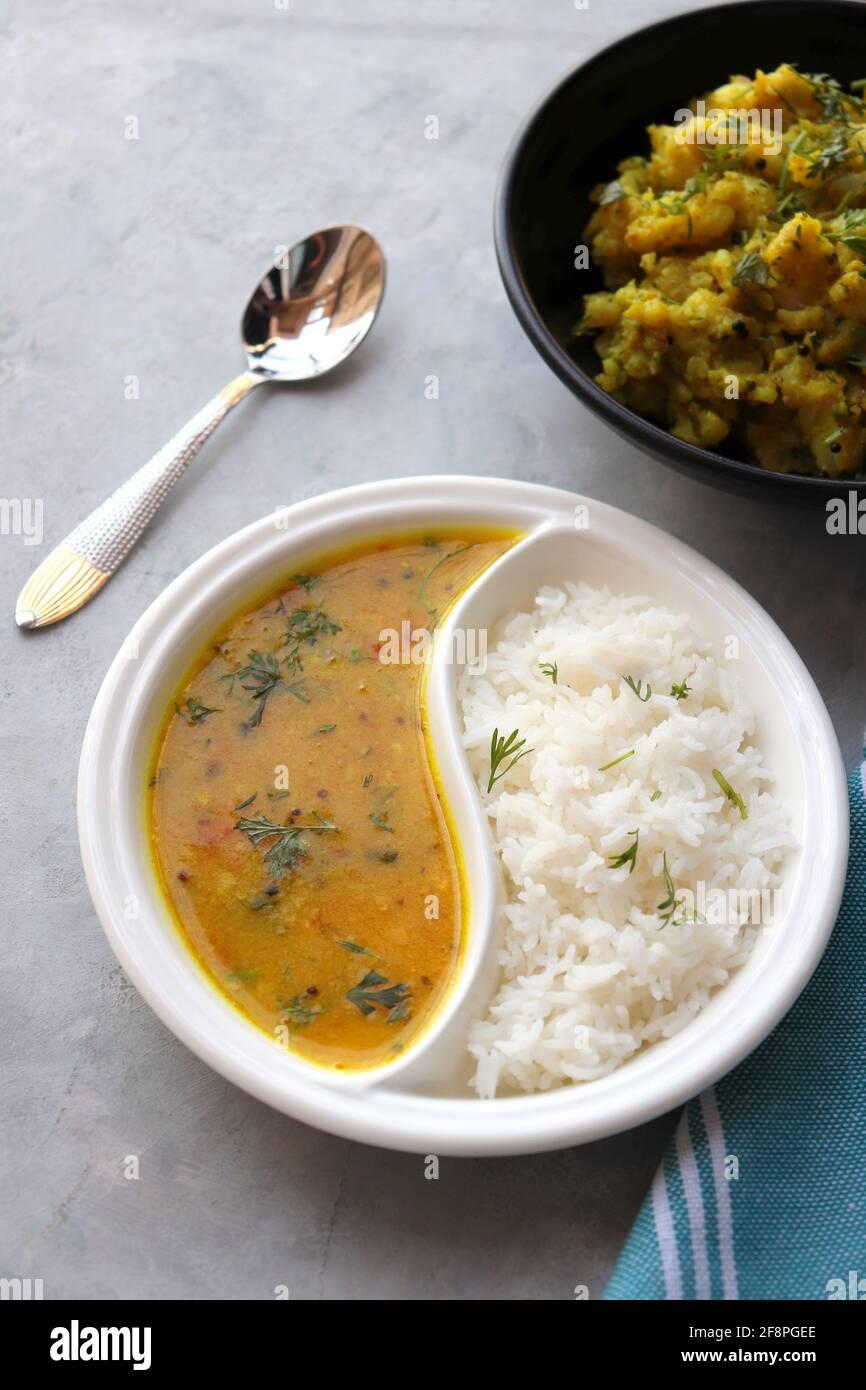aloo sabji: (581, 51, 866, 475)
rice: (458, 588, 794, 1084)
varan: (158, 551, 454, 1093)
